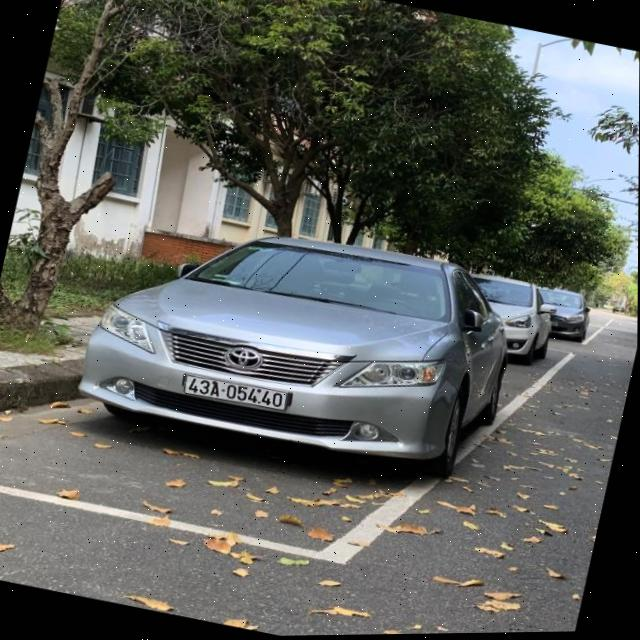car: (78, 196, 531, 503), (450, 269, 568, 374), (522, 278, 596, 347)
plate: (169, 361, 300, 423)
